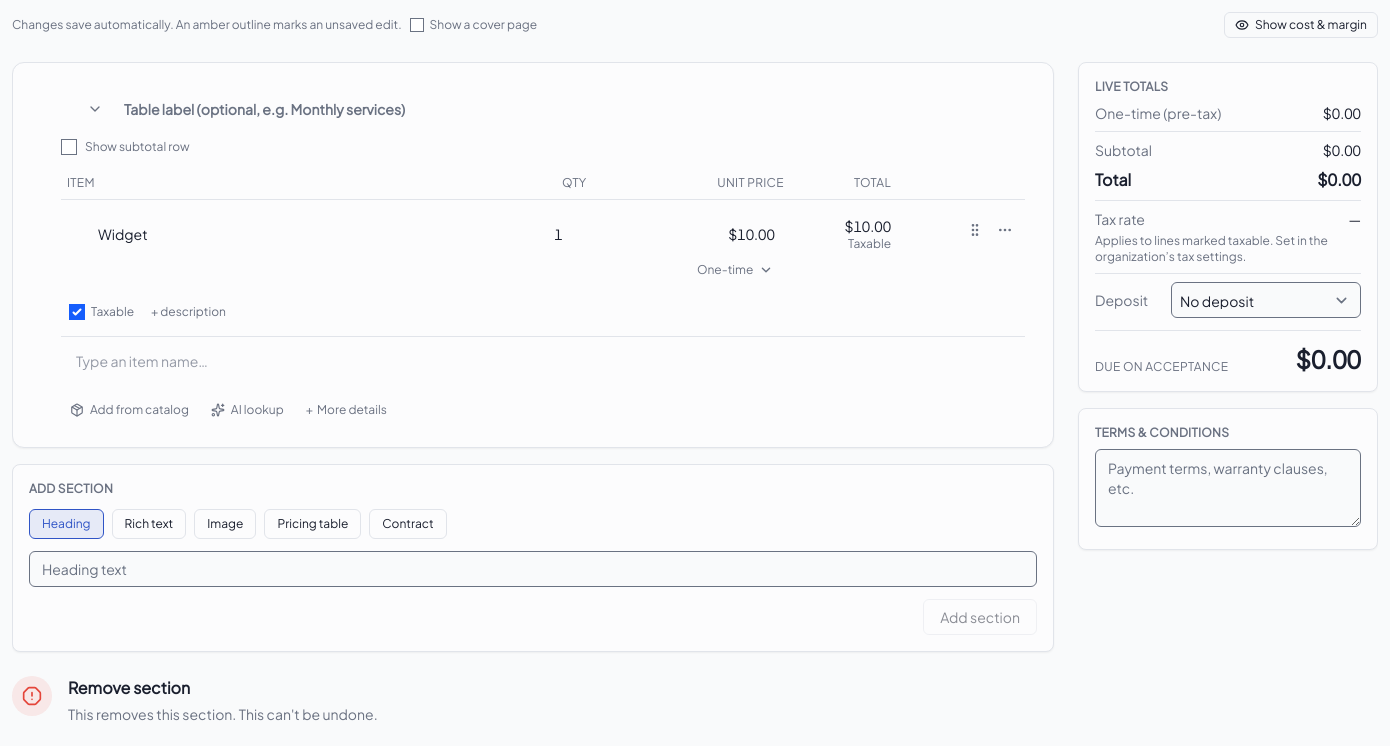
Test: QuoteEditor — add line image from URL › fetching a URL copies the image then PATCHes the line with the returned id
Expected: the row with test id "quote-line-line-1" is shown, [61,200,1025,292]
Click the button with test id "quote-line-actions-line-1": [1005, 230] box [991,216,1019,244]
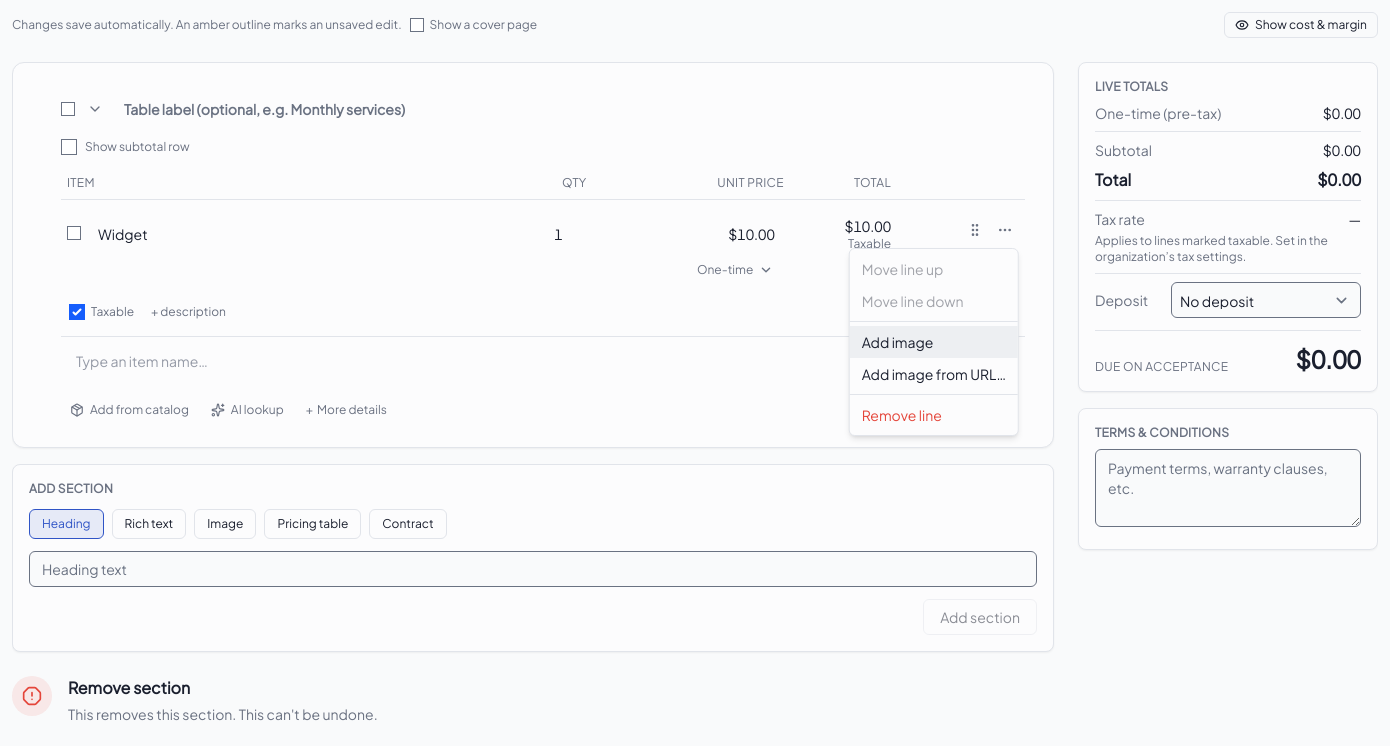
Click the menu item with test id "quote-line-image-url-toggle-line-1": [934, 374] box [850,358,1018,390]
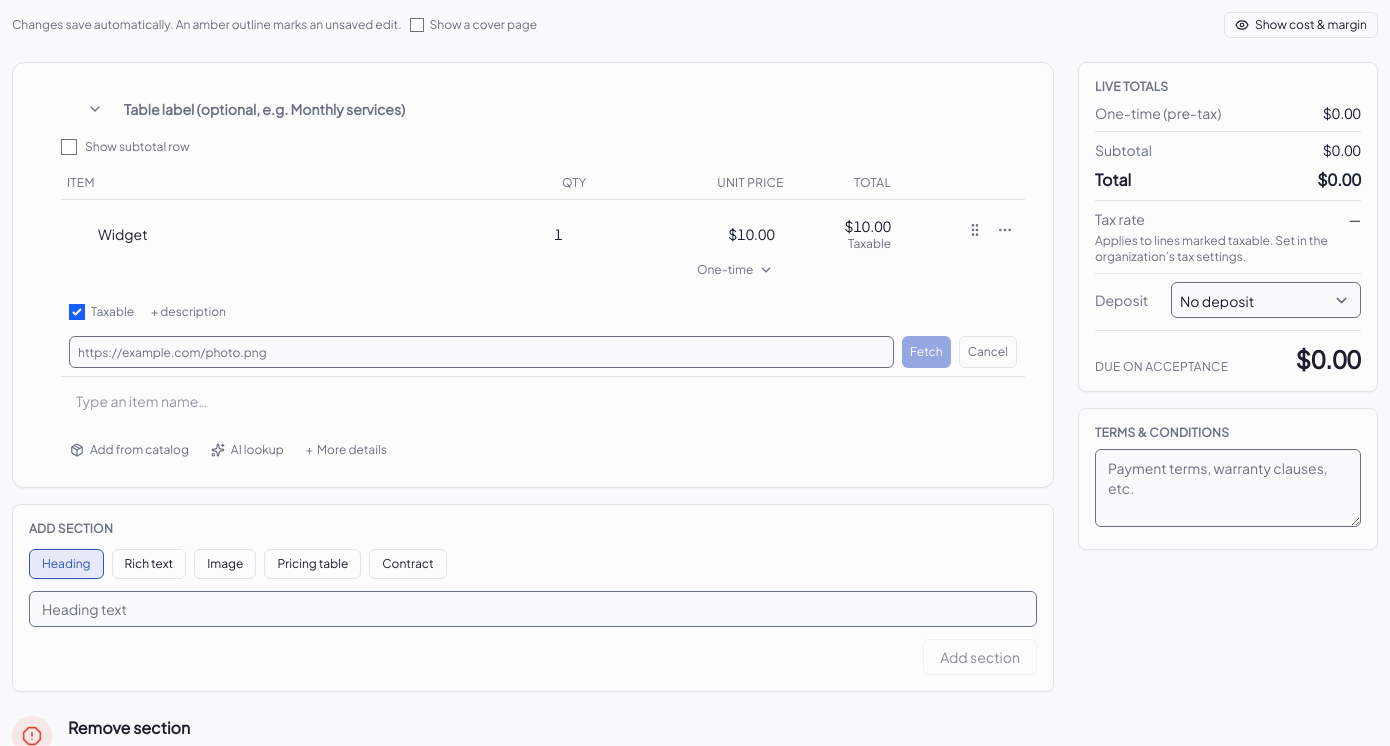
In the field with test id "quote-line-image-url-input-line-1": [482, 352] box [69,336,894,368], type "https://cdn.example.com/w.png"
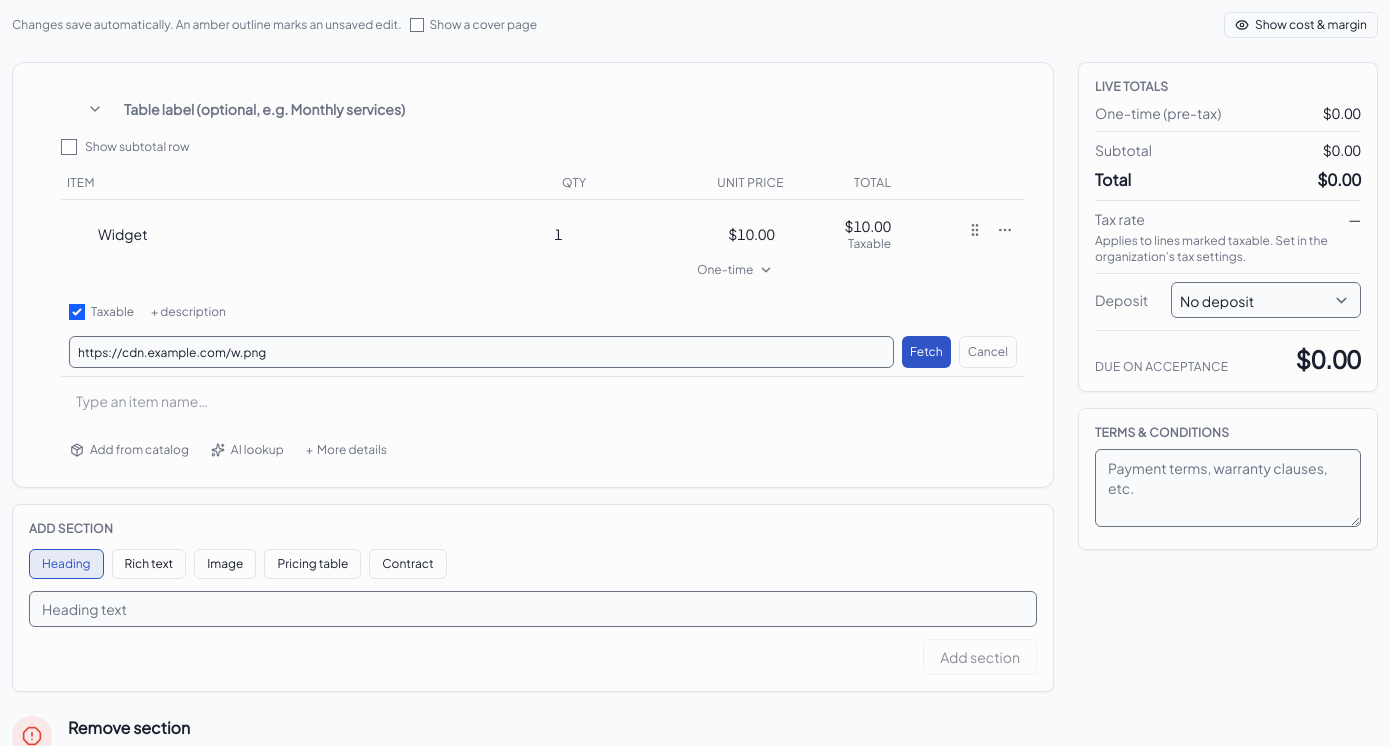
Click the button with test id "quote-line-image-url-fetch-line-1": [926, 352] box [902,336,951,368]
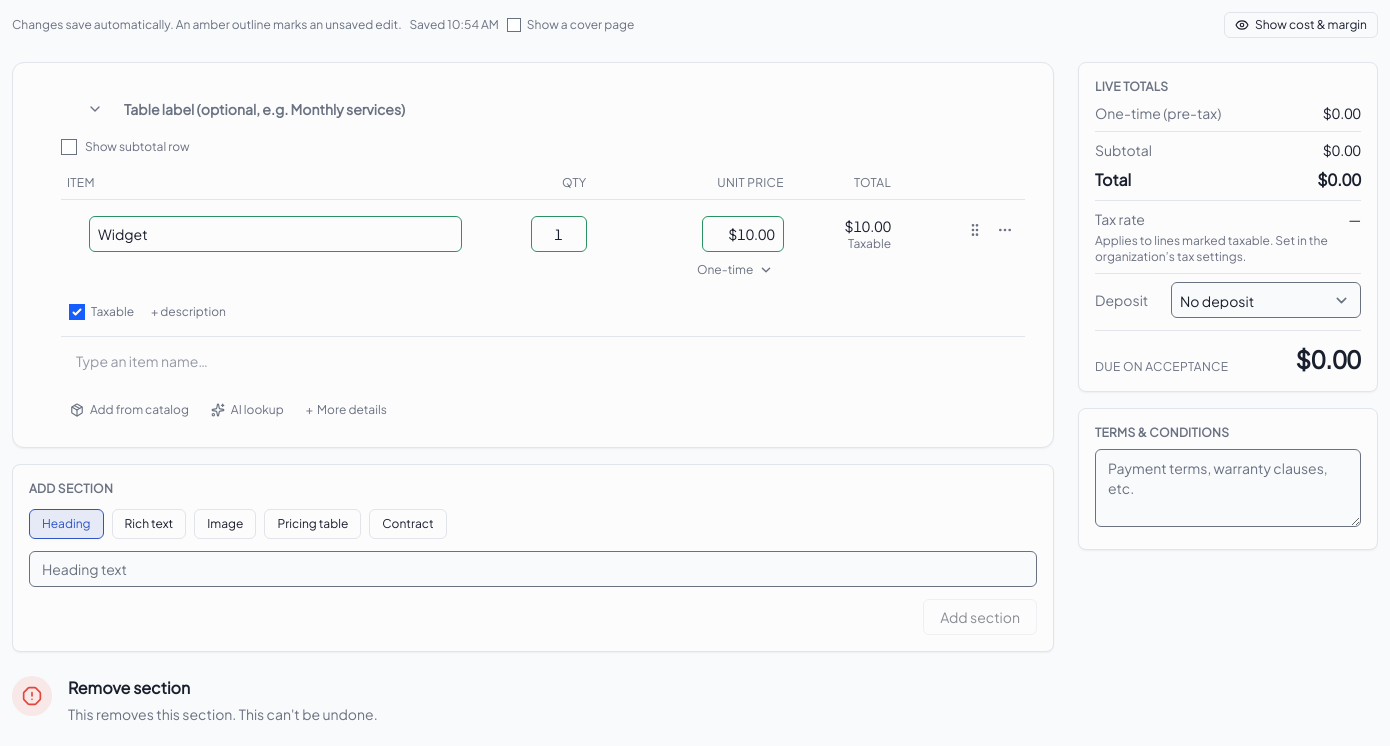
Expected: the field with test id "quote-line-image-url-input-line-1" is gone
